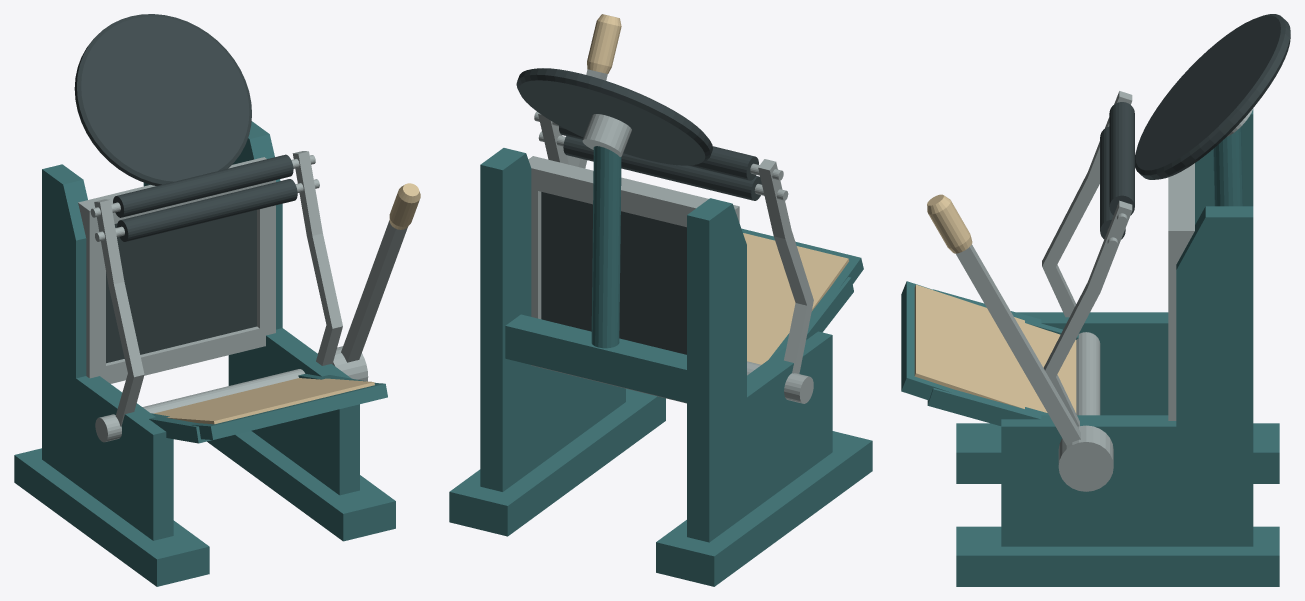
3 renders of one model, left to right at view 1: azimuth 30°, elevation 25°; view 2: azimuth 150°, elevation 25°; view 3: azimuth 270°, elevation 25°, orthographic. The views are drawn at different scales.
Parts seen in each view (by area): view 1: WholeInclinedCircularInkTable, WholeContinuousSideFrameLeft, WholeInsetBlankTypeBed, WholeContinuousSideFrameRight, WholeVerticalChaseFrame, WholeGroundShoeLeft, WholeGroundShoeRight, WholeBlankPlatenFacing, WholePlainInkingRollerLower, WholePlainInkingRollerUpper, WholeBentRollerCarrierLeft, WholeBentRollerCarrierRight (+6 smaller); view 2: WholeContinuousSideFrameLeft, WholeContinuousSideFrameRight, WholeInsetBlankTypeBed, WholeGroundShoeLeft, WholeGroundShoeRight, WholeInclinedCircularInkTable, WholeRearFrameTie, WholeBlankPlatenFacing, WholeVerticalChaseFrame, WholeRearInkTableSupport, WholeBentRollerCarrierLeft, WholePlainInkingRollerLower (+7 smaller); view 3: WholeContinuousSideFrameRight, WholeGroundShoeRight, WholeInclinedCircularInkTable, WholeBlankPlatenFacing, WholeContinuousSideFrameLeft, WholeGroundShoeLeft, WholeLongFixedSideLever, WholeVerticalChaseFrame, WholeBentRollerCarrierRight, WholeLeverPivotHub, WholeBentRollerCarrierLeft, WholePlainInkingRollerUpper (+7 smaller).
Boxes of the visible parts, <box> form: WholeInclinedCircularInkTable: <box>74,14,251,185</box>; WholeContinuousSideFrameLeft: <box>42,164,173,540</box>; WholeInsetBlankTypeBed: <box>106,210,256,363</box>; WholeContinuousSideFrameRight: <box>228,121,359,495</box>; WholeVerticalChaseFrame: <box>78,157,275,383</box>; WholeGroundShoeLeft: <box>14,448,209,586</box>; WholeGroundShoeRight: <box>207,431,395,541</box>; WholeBlankPlatenFacing: <box>154,378,374,424</box>; WholePlainInkingRollerLower: <box>117,179,297,241</box>; WholePlainInkingRollerUpper: <box>113,154,293,217</box>; WholeBentRollerCarrierLeft: <box>94,199,144,426</box>; WholeBentRollerCarrierRight: <box>292,151,342,365</box>; WholeContinuousSideFrameLeft: <box>687,198,832,542</box>; WholeContinuousSideFrameRight: <box>480,148,625,491</box>; WholeInsetBlankTypeBed: <box>541,192,686,354</box>; WholeGroundShoeLeft: <box>656,431,872,586</box>; WholeGroundShoeRight: <box>449,388,665,536</box>; WholeInclinedCircularInkTable: <box>516,68,712,165</box>; WholeRearFrameTie: <box>505,314,686,402</box>; WholeBlankPlatenFacing: <box>743,233,848,364</box>; WholeVerticalChaseFrame: <box>528,156,739,403</box>; WholeRearInkTableSupport: <box>591,146,621,348</box>; WholeBentRollerCarrierLeft: <box>758,159,813,373</box>; WholePlainInkingRollerLower: <box>563,136,761,200</box>; WholeContinuousSideFrameRight: <box>1001,206,1253,546</box>; WholeGroundShoeRight: <box>956,526,1279,586</box>; WholeInclinedCircularInkTable: <box>1135,14,1290,179</box>; WholeBlankPlatenFacing: <box>914,284,1076,413</box>; WholeContinuousSideFrameLeft: <box>1016,109,1253,415</box>; WholeGroundShoeLeft: <box>956,423,1279,483</box>; WholeLongFixedSideLever: <box>955,244,1080,445</box>; WholeVerticalChaseFrame: <box>1168,163,1194,420</box>; WholeBentRollerCarrierRight: <box>1043,200,1132,426</box>; WholeLeverPivotHub: <box>1058,425,1113,491</box>; WholeBentRollerCarrierLeft: <box>1042,91,1132,317</box>; WholePlainInkingRollerUpper: <box>1109,102,1134,215</box>.
Size of the model in its own units: 0.633 by 1.03 by 0.7342.
